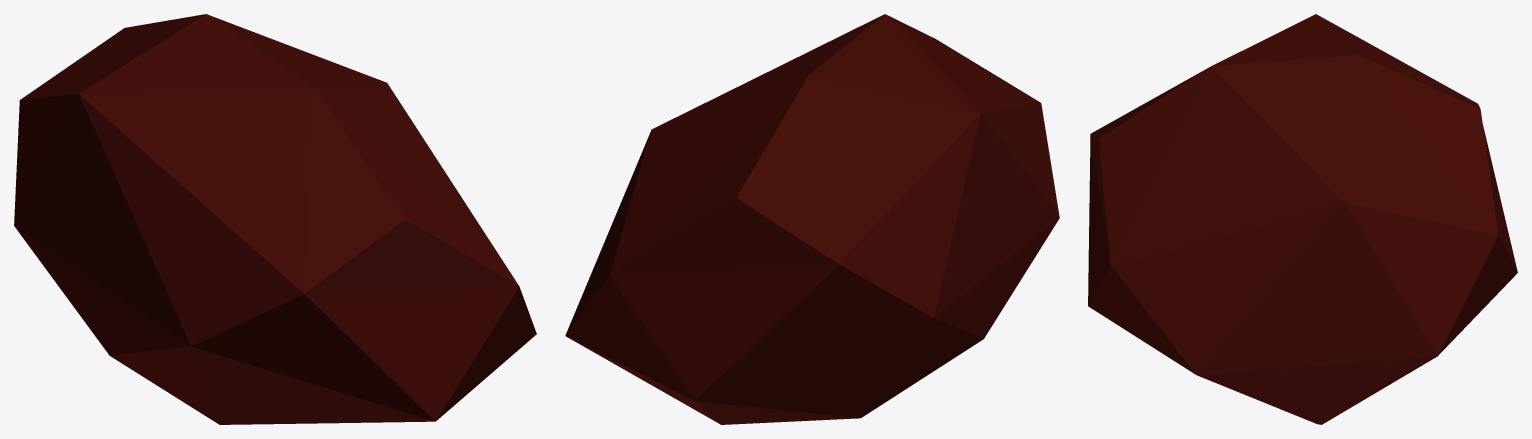
File: Mars_planet_rock_01_002.FBX
3 renders of one model, left to right at view 1: azimuth 30°, elevation 25°; view 2: azimuth 150°, elevation 25°; view 3: azimuth 270°, elevation 25°, orthographic. The views are drawn at different scales.
Visible parts, largest first — view 1: 002_MARS PLANET_ROCK_001; view 2: 002_MARS PLANET_ROCK_001; view 3: 002_MARS PLANET_ROCK_001.
Boxes of the visible parts, x1,y1,x2,y2 form: 002_MARS PLANET_ROCK_001: (14,14,536,424); 002_MARS PLANET_ROCK_001: (565,14,1059,424); 002_MARS PLANET_ROCK_001: (1088,14,1517,424).
Size of the model in its own units: 1.33 by 1.36 by 1.63.
